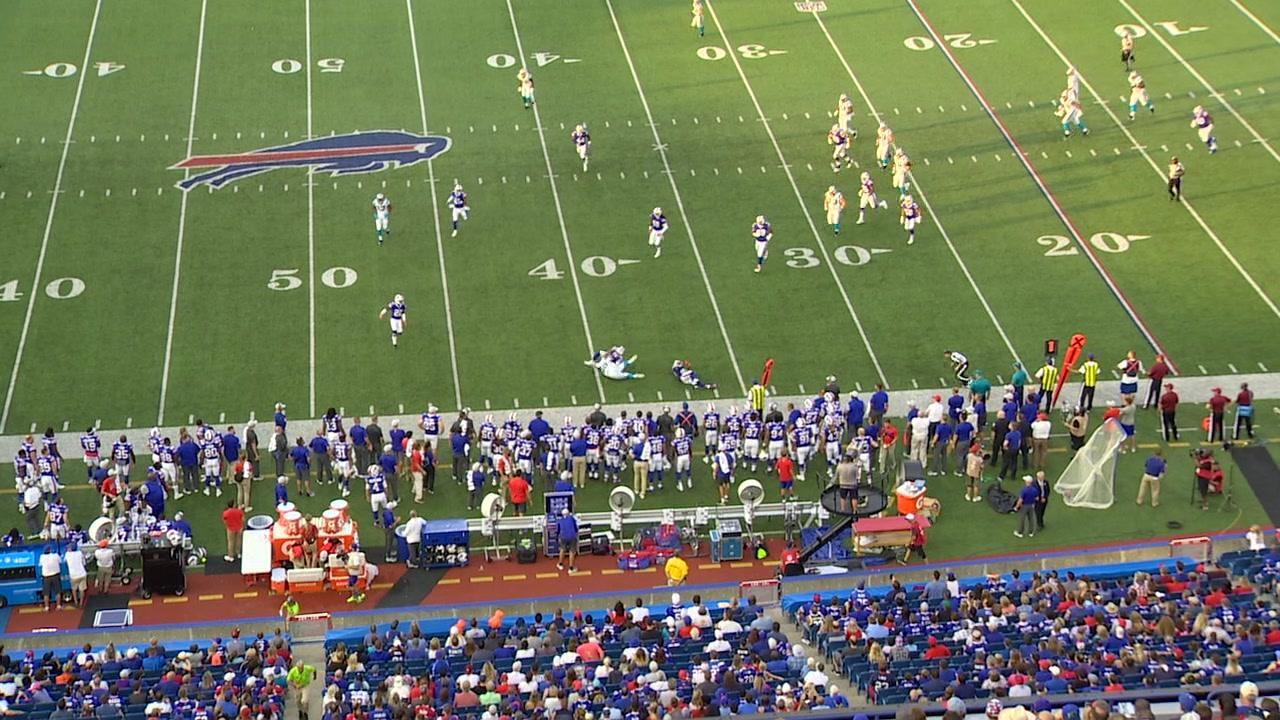five_hash: (1129, 145, 1149, 151), (531, 126, 550, 132), (1251, 138, 1271, 143), (541, 174, 561, 179), (300, 182, 320, 187), (1207, 93, 1226, 98), (659, 169, 678, 174), (47, 189, 66, 194), (867, 112, 885, 117), (299, 134, 320, 138), (423, 179, 443, 183), (755, 118, 774, 122), (181, 137, 200, 141), (777, 164, 795, 168), (644, 123, 662, 127), (58, 140, 76, 144), (417, 131, 435, 134)
hash: (1232, 87, 1243, 98), (1087, 148, 1099, 158), (113, 134, 123, 145), (802, 111, 813, 121), (1112, 147, 1123, 157), (804, 163, 816, 172), (968, 155, 980, 164), (992, 154, 1004, 163), (1183, 143, 1195, 152), (39, 136, 49, 146), (162, 132, 172, 142), (780, 111, 790, 121), (1049, 98, 1059, 108), (1118, 94, 1128, 104), (24, 190, 34, 200), (499, 175, 509, 185), (138, 133, 147, 144), (210, 131, 219, 142), (1063, 150, 1074, 159), (1039, 152, 1051, 160), (234, 131, 243, 141), (258, 130, 267, 140), (467, 124, 476, 134), (490, 123, 499, 133), (558, 121, 567, 131), (624, 119, 634, 128), (669, 117, 679, 126), (691, 116, 701, 125), (959, 103, 969, 112), (1163, 92, 1173, 101), (1187, 90, 1197, 99), (1256, 86, 1266, 95), (103, 188, 112, 198), (130, 187, 139, 197), (155, 186, 164, 196), (282, 183, 291, 193), (523, 174, 532, 184), (758, 166, 768, 175), (922, 158, 932, 167), (945, 156, 955, 165), (1160, 144, 1170, 153), (1233, 139, 1243, 148), (89, 134, 97, 145), (282, 130, 290, 141), (892, 107, 901, 116), (77, 189, 86, 198), (476, 176, 485, 185), (571, 173, 580, 182), (641, 170, 650, 179), (444, 125, 452, 135), (404, 179, 412, 189), (513, 123, 521, 132), (603, 120, 611, 129), (737, 115, 745, 124), (937, 105, 946, 113), (1004, 102, 1013, 110), (1027, 100, 1035, 109), (232, 185, 240, 194), (257, 183, 265, 192), (356, 180, 364, 189), (712, 168, 720, 177), (715, 115, 722, 125), (826, 110, 834, 118), (915, 107, 923, 115), (452, 178, 460, 186), (619, 172, 627, 180), (689, 169, 697, 177), (736, 167, 744, 175), (380, 180, 387, 189), (595, 172, 602, 181), (0, 191, 6, 201), (332, 182, 339, 190), (15, 137, 22, 144)
marker: (1052, 335, 1087, 407), (759, 357, 774, 402)
number: (1030, 228, 1155, 260), (521, 254, 643, 286), (778, 242, 898, 271), (264, 263, 361, 295), (19, 58, 129, 82), (482, 48, 587, 73), (900, 29, 999, 55), (691, 42, 793, 64), (265, 54, 349, 78)
